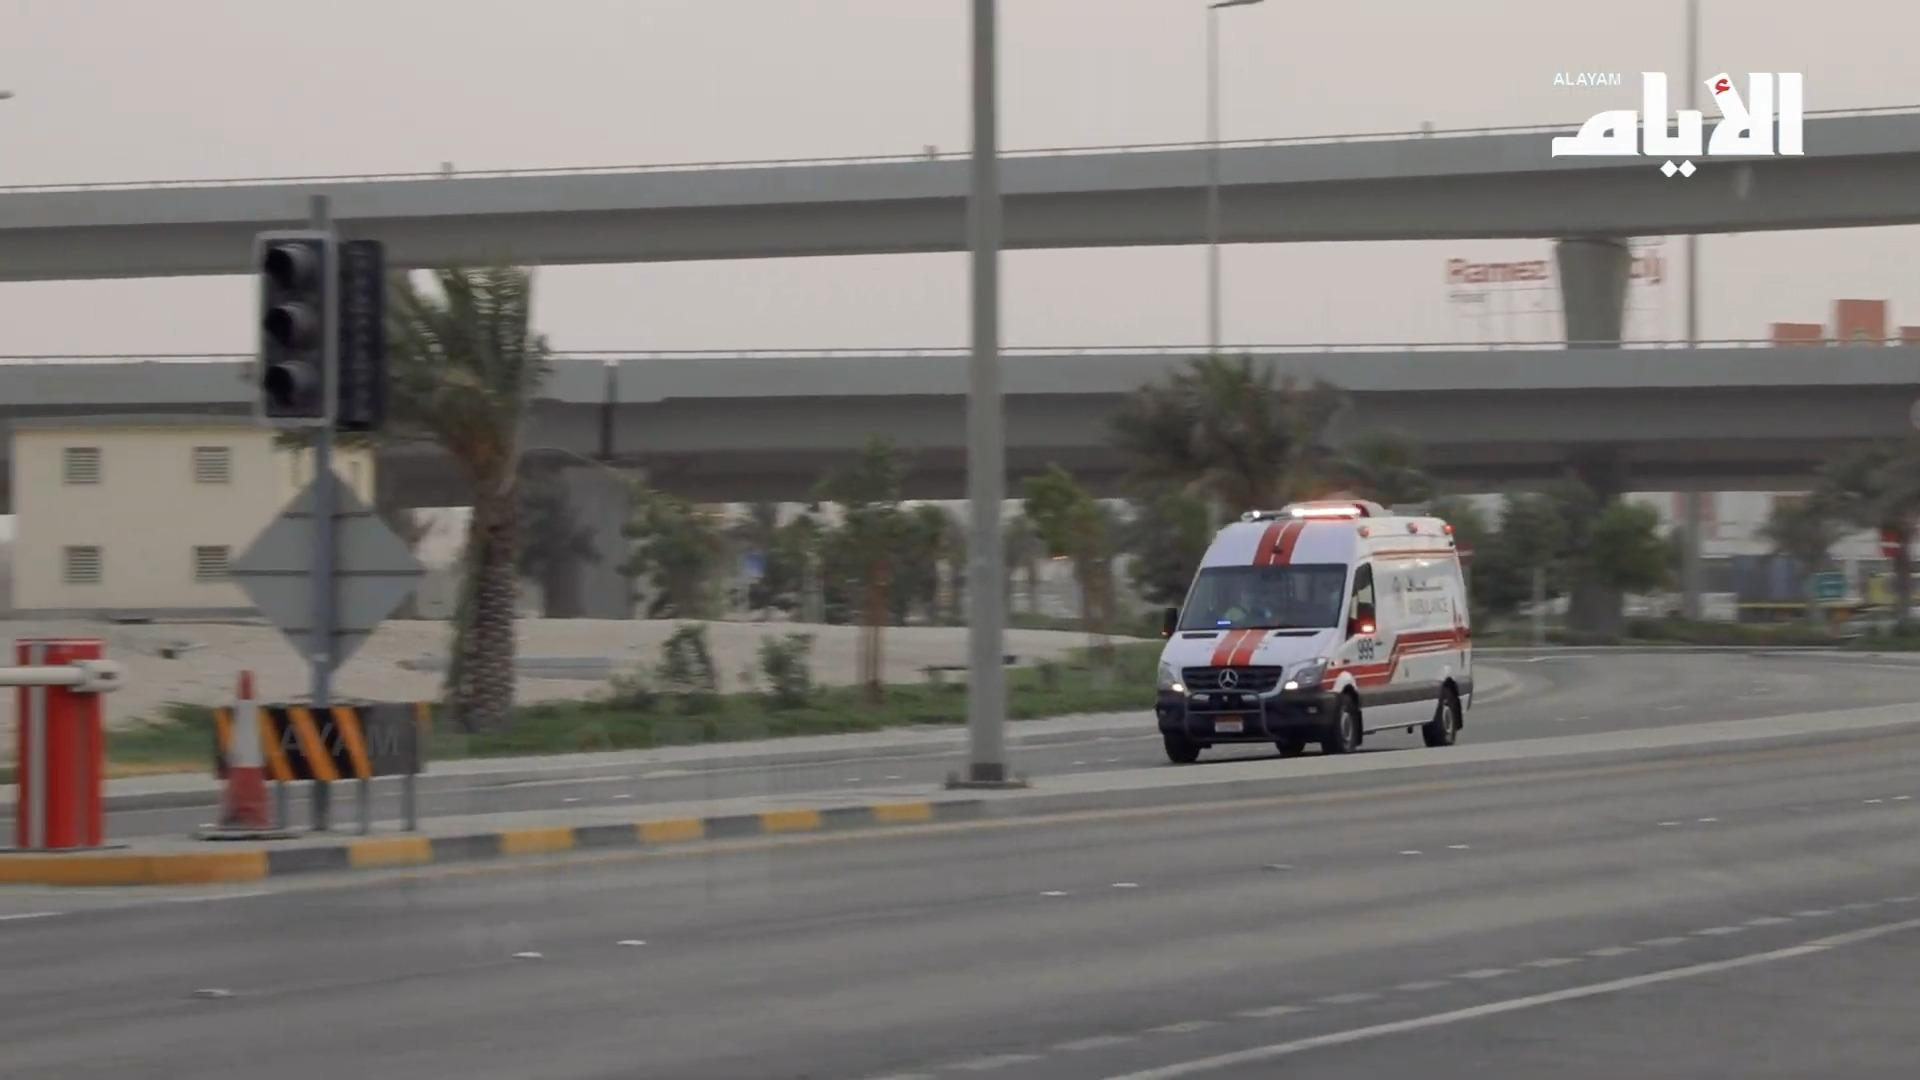ambulance_on: (1153, 498, 1474, 762)
